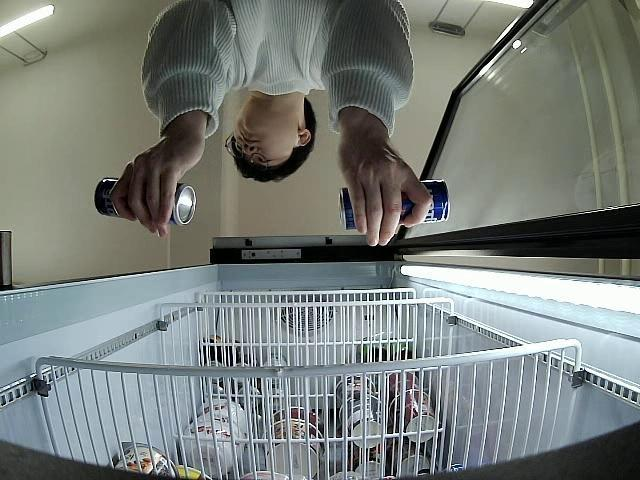16_hot6: (337, 181, 450, 229), (96, 176, 198, 224)
